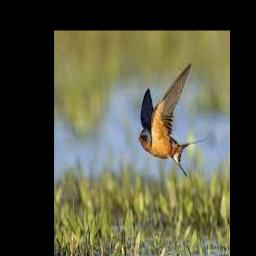Swallow: (139, 63, 207, 177)
